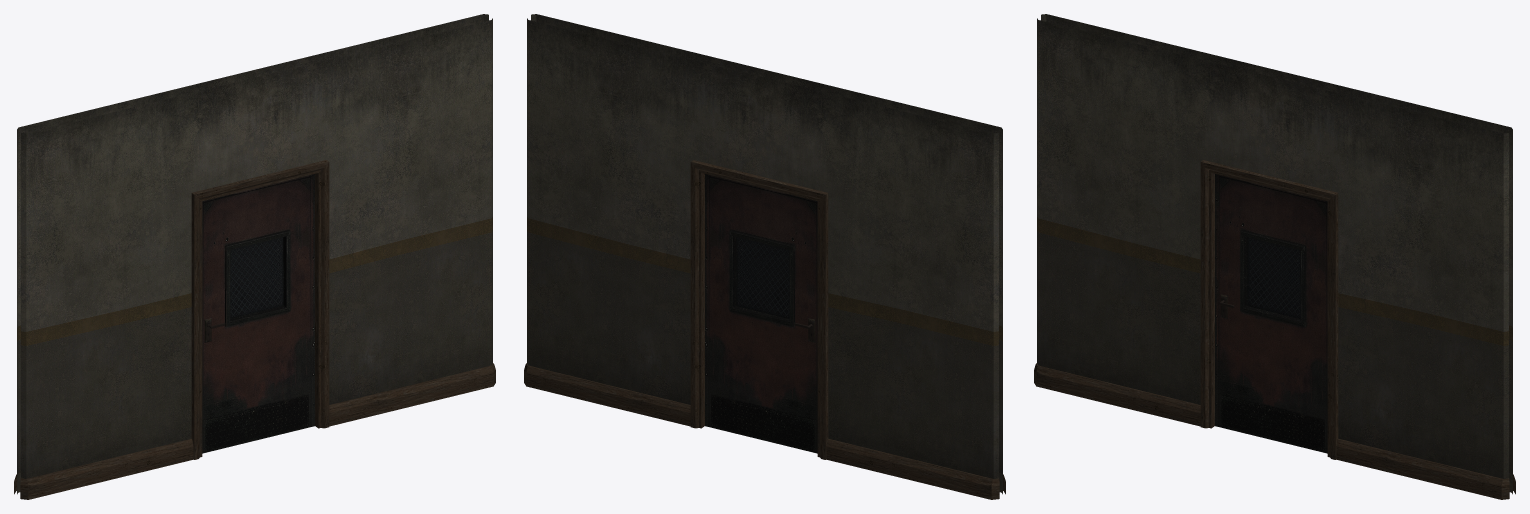
Rendered from doorway_1.obj.
The picture shows the model from 3 angles, left to right: view 1: azimuth 30°, elevation 25°; view 2: azimuth 150°, elevation 25°; view 3: azimuth 330°, elevation 25°; orthographic projection.
Visible parts, largest first — view 1: doorway_1, door_4; view 2: doorway_1, door_4; view 3: doorway_1, door_4.
Part boxes in pixels (bbox=[...]): doorway_1: bbox=[14, 14, 495, 499]; door_4: bbox=[202, 174, 314, 453]; doorway_1: bbox=[524, 14, 1005, 499]; door_4: bbox=[705, 174, 817, 453]; doorway_1: bbox=[1034, 14, 1515, 499]; door_4: bbox=[1215, 174, 1327, 453].
Bounding box in the file's own units: 4.09 × 3 × 0.2.
